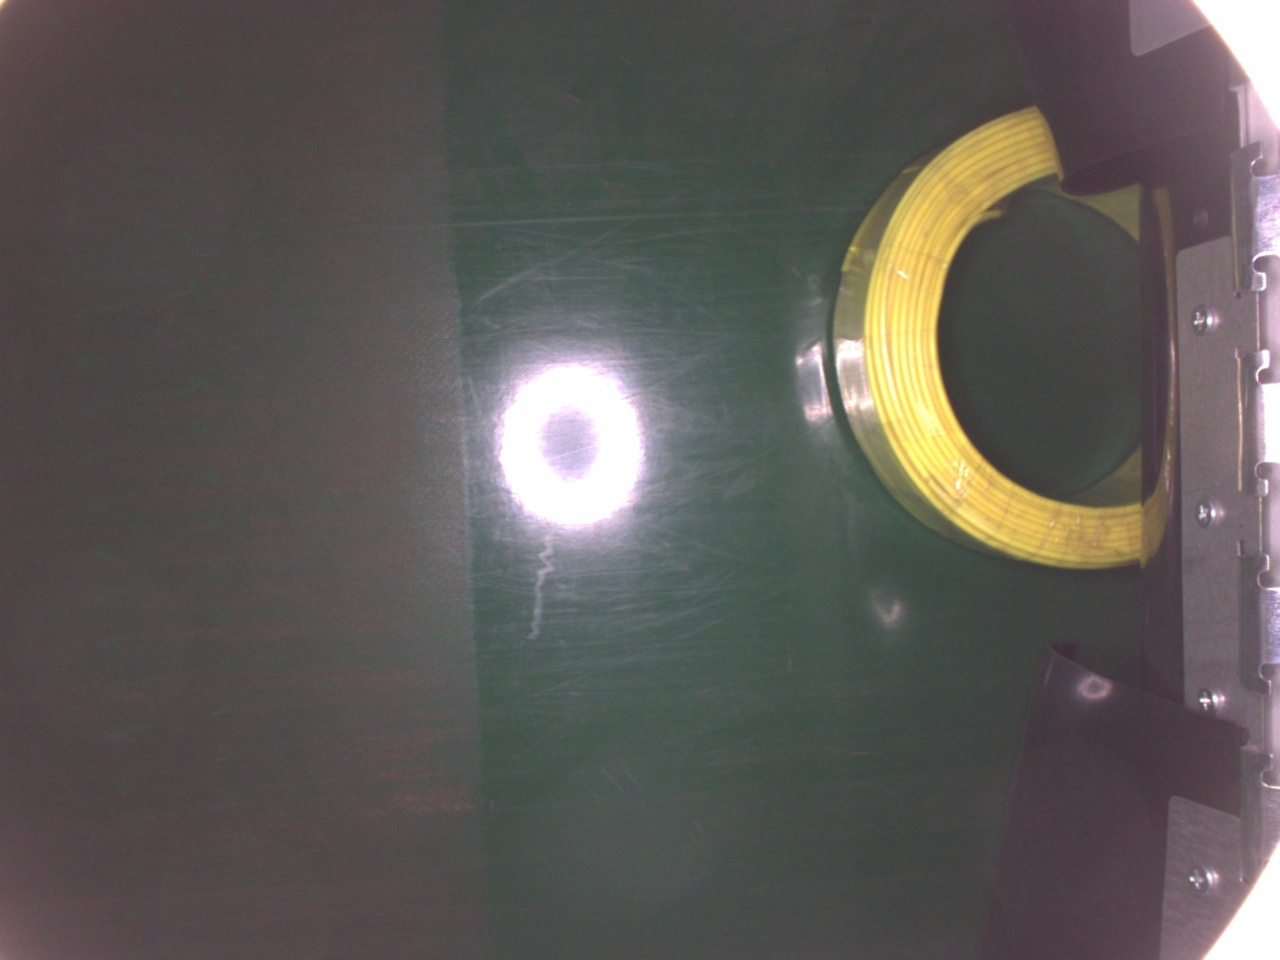yellow: (828, 101, 1151, 572)
